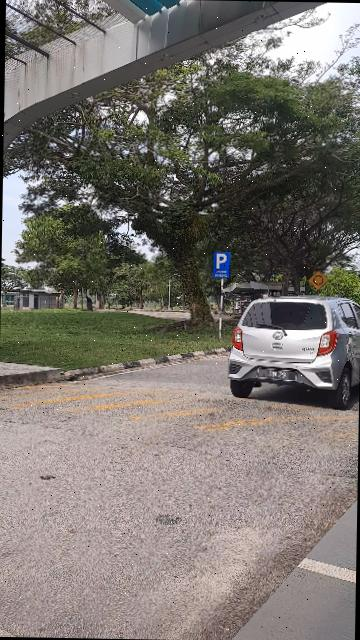car: (226, 291, 360, 406)
